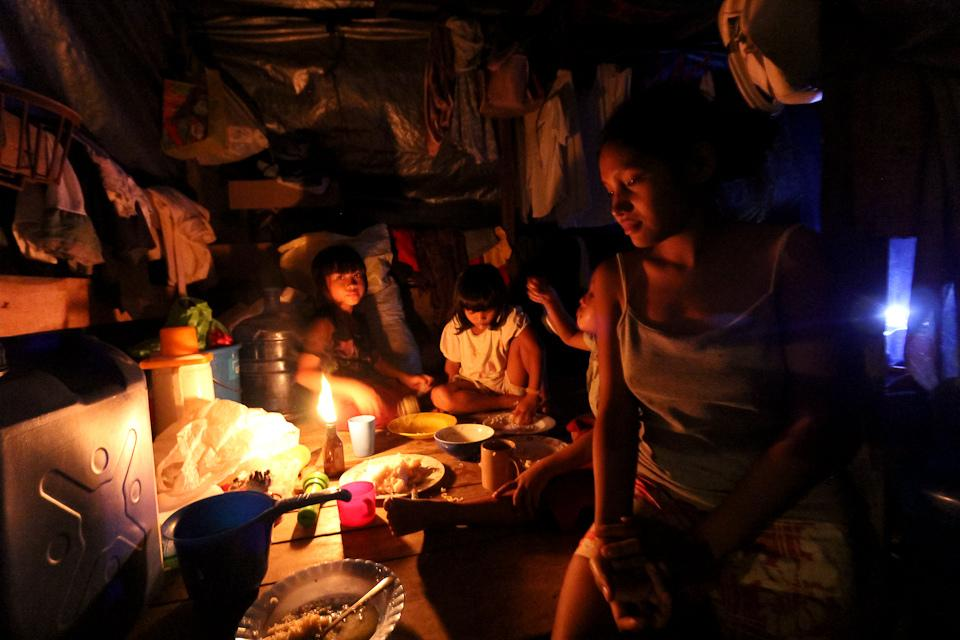fire: (310, 375, 350, 437)
